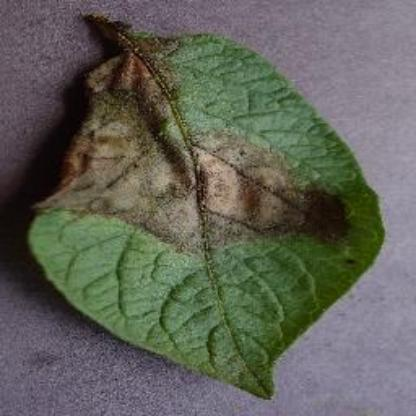Late-Blight: (24, 11, 396, 402)
